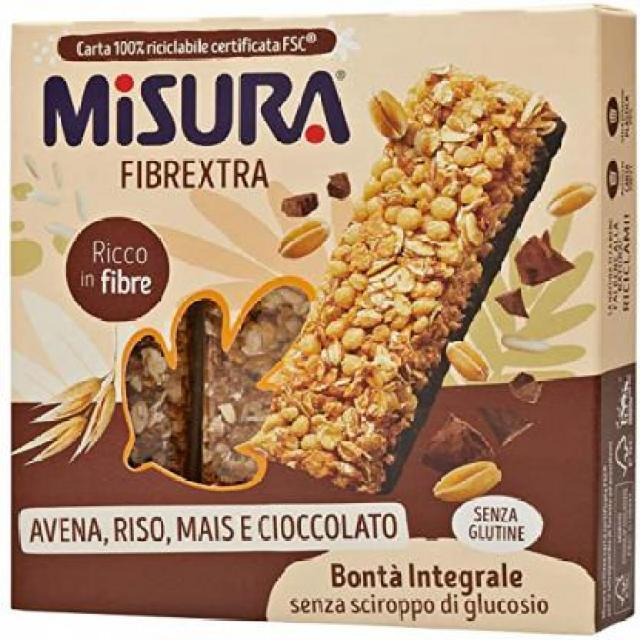Cereal bar: (4, 1, 638, 637)
